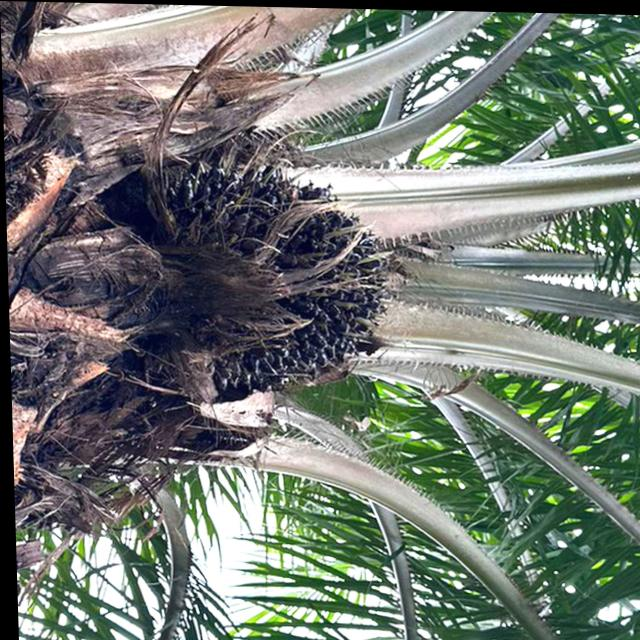unripe: (156, 147, 398, 396)
